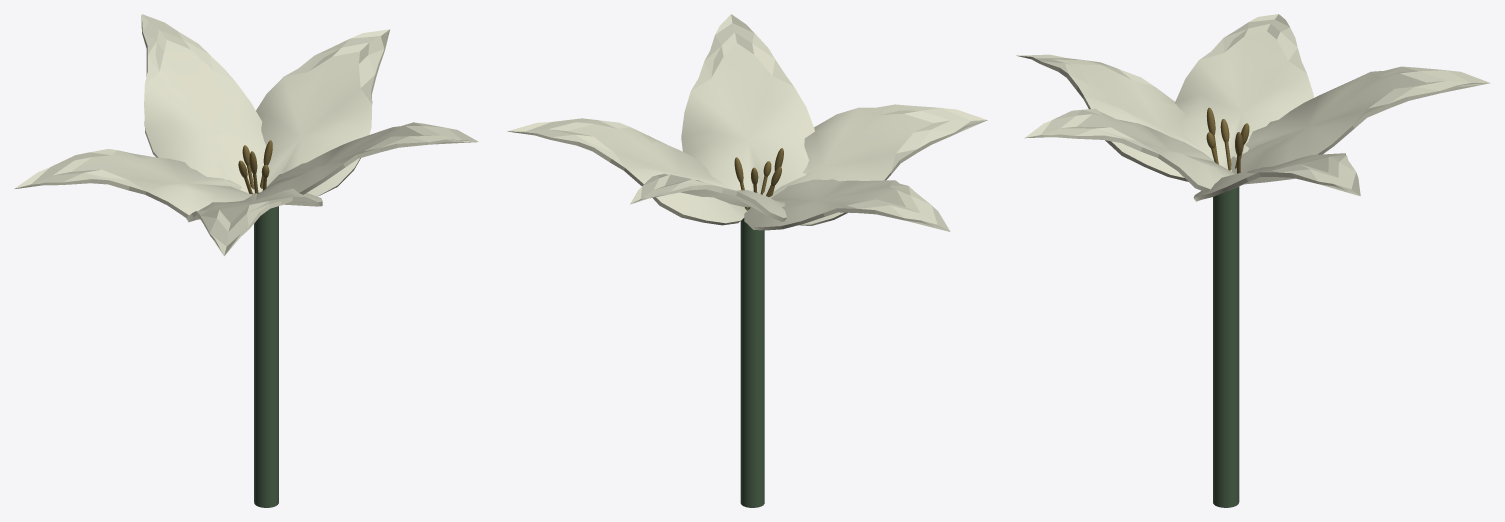
Rendered from lily.obj.
3 renders of one model, left to right at view 1: azimuth 30°, elevation 25°; view 2: azimuth 150°, elevation 25°; view 3: azimuth 270°, elevation 25°, orthographic. The views are drawn at different scales.
Parts seen in each view (by area): view 1: lillies petal35 lilliesHead, stem lillies; view 2: lillies petal35 lilliesHead, stem lillies; view 3: lillies petal35 lilliesHead, stem lillies.
Boxes of the visible parts, bbox=[...] form: lillies petal35 lilliesHead: bbox=[14, 14, 478, 255]; stem lillies: bbox=[254, 190, 278, 507]; lillies petal35 lilliesHead: bbox=[507, 14, 987, 231]; stem lillies: bbox=[740, 207, 764, 507]; lillies petal35 lilliesHead: bbox=[1016, 14, 1490, 201]; stem lillies: bbox=[1213, 186, 1239, 507].
Bounding box in the file's own units: 2.82 × 2.62 × 2.64.
